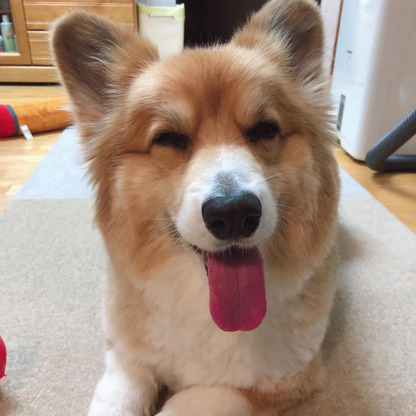Corgi: (42, 15, 369, 402)
